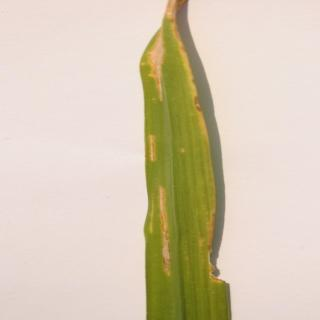Hawar-Daun: (162, 0, 253, 320), (131, 131, 186, 312), (142, 25, 168, 106)
